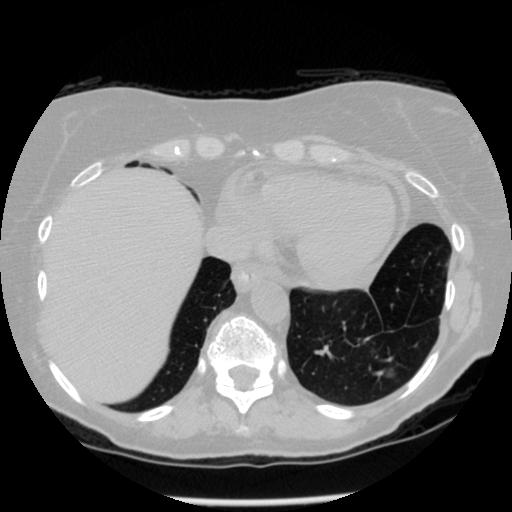nodule: (384, 367, 398, 381)
